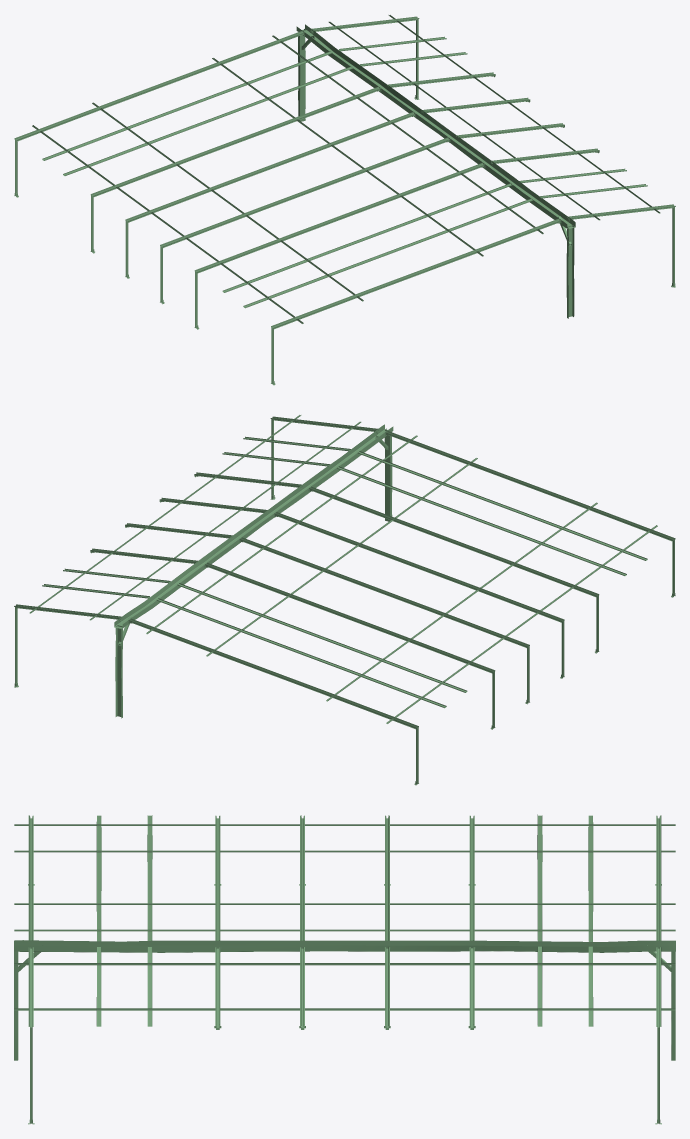
The model's file is huone_muuten.fbx.
3 renders of one model, top to bottom at view 1: azimuth 30°, elevation 25°; view 2: azimuth 150°, elevation 25°; view 3: azimuth 270°, elevation 25°, orthographic. The views are drawn at different scales.
Parts seen in each view (by area): view 1: katto_toimisto_01; view 2: katto_toimisto_01; view 3: katto_toimisto_01.
Part boxes in pixels (x1,y1,x2,y2): katto_toimisto_01: [14, 15, 675, 385]; katto_toimisto_01: [14, 415, 675, 785]; katto_toimisto_01: [14, 814, 675, 1124].
Bounding box in the file's own units: 1711 × 386 × 1991.
